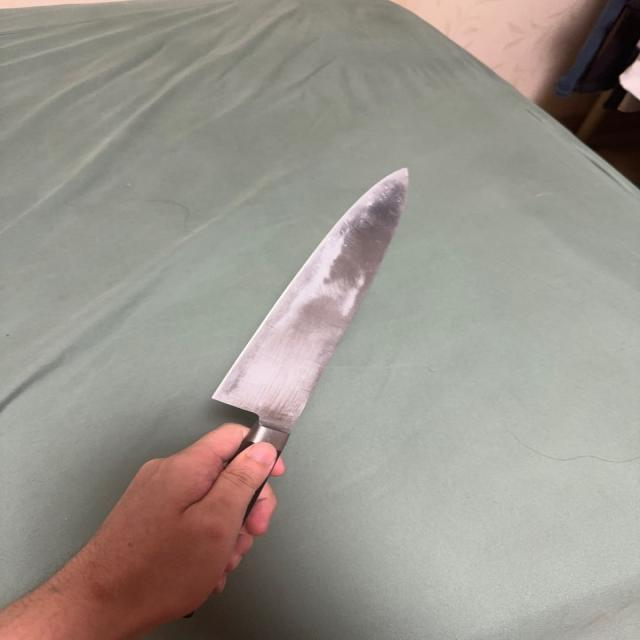knife: (207, 163, 413, 480)
